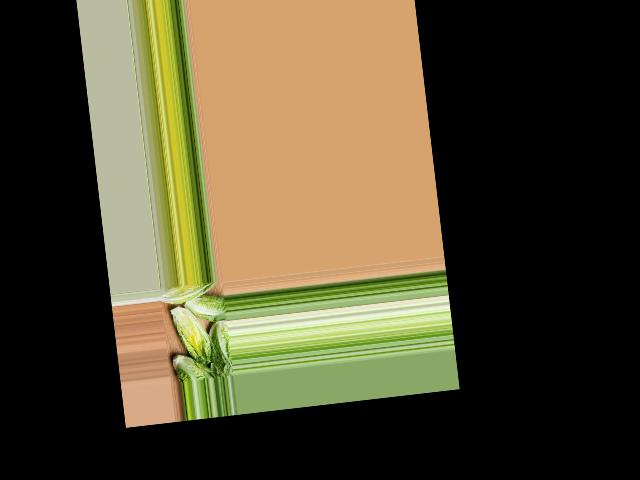lettuce: (160, 281, 217, 307)
